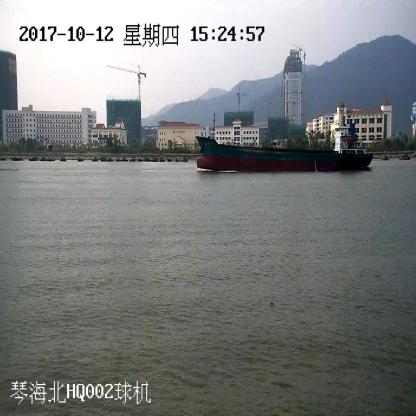Bulk Carrier: (196, 115, 373, 171)
